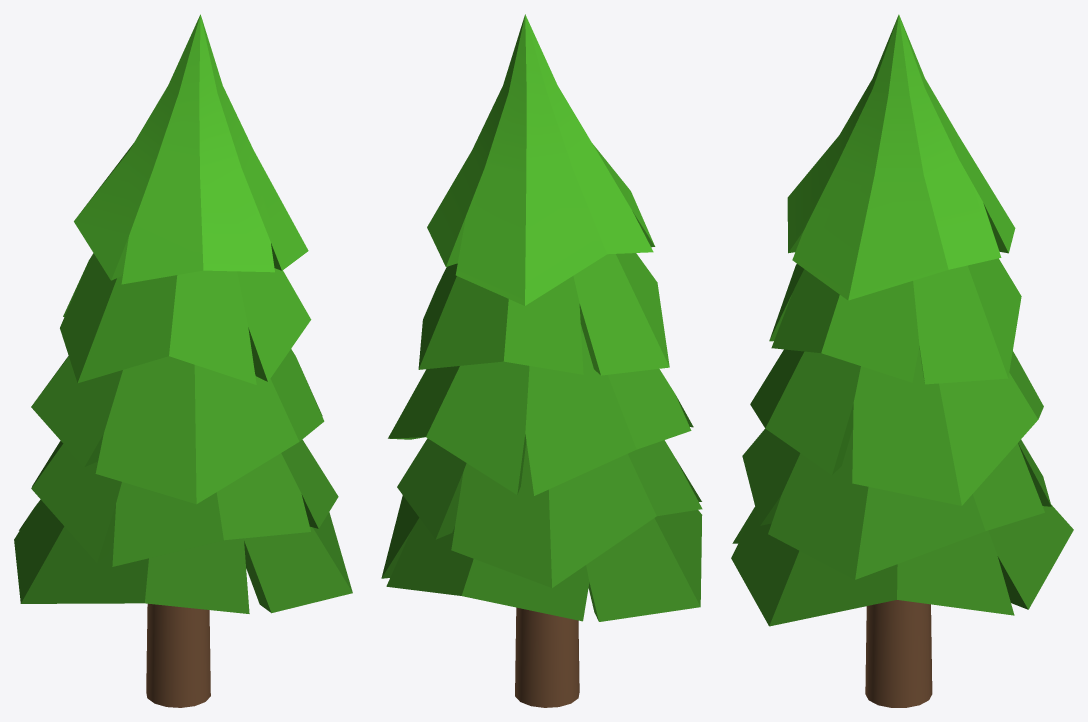
Rendered from Spruce_Green_1.fbx.
3 views of the same model, side by side, from view 1: azimuth 30°, elevation 25°; view 2: azimuth 150°, elevation 25°; view 3: azimuth 270°, elevation 25° (orthographic). The views are drawn at different scales.
Parts seen in each view (by area): view 1: Cylinder.339, Cylinder.338, Cylinder.337, Cylinder.335, Cylinder.336, Cylinder.334; view 2: Cylinder.339, Cylinder.338, Cylinder.336, Cylinder.337, Cylinder.335, Cylinder.334; view 3: Cylinder.339, Cylinder.338, Cylinder.336, Cylinder.337, Cylinder.335, Cylinder.334.
Part boxes in pixels (box(x1,y1,x2,y2)): Cylinder.339: box(74, 14, 308, 284); Cylinder.338: box(31, 349, 324, 504); Cylinder.337: box(60, 253, 311, 384); Cylinder.335: box(14, 499, 352, 613); Cylinder.336: box(31, 439, 338, 566); Cylinder.334: box(146, 603, 210, 707); Cylinder.339: box(427, 14, 655, 305); Cylinder.338: box(388, 324, 693, 495); Cylinder.336: box(397, 438, 702, 587); Cylinder.337: box(418, 253, 669, 375); Cylinder.335: box(381, 495, 702, 621); Cylinder.334: box(515, 607, 579, 707); Cylinder.339: box(787, 14, 1015, 300); Cylinder.338: box(750, 347, 1043, 505); Cylinder.336: box(742, 427, 1051, 579); Cylinder.337: box(769, 258, 1021, 384); Cylinder.335: box(731, 504, 1073, 626); Cylinder.334: box(865, 600, 932, 707).
Bounding box in the file's own units: 265 × 567 × 255.
